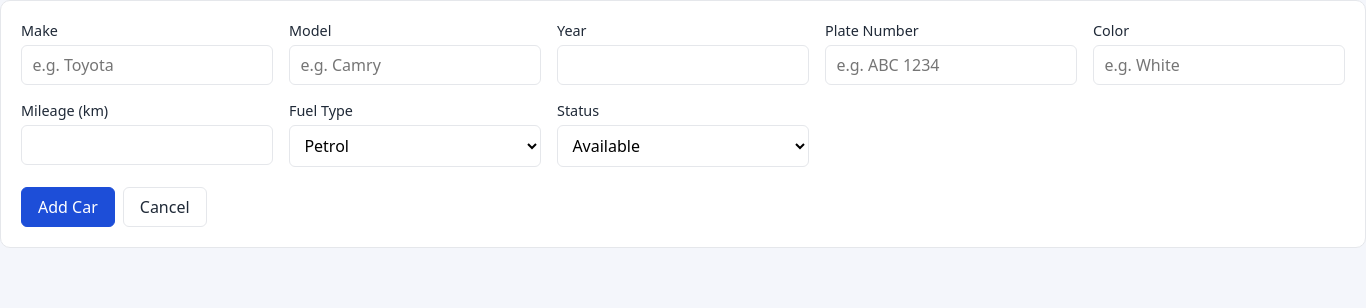
Test: CarForm › shows validation errors and does not submit an empty form
Click the button "Add Car".
click(68, 207)  # box [21,187,115,227]
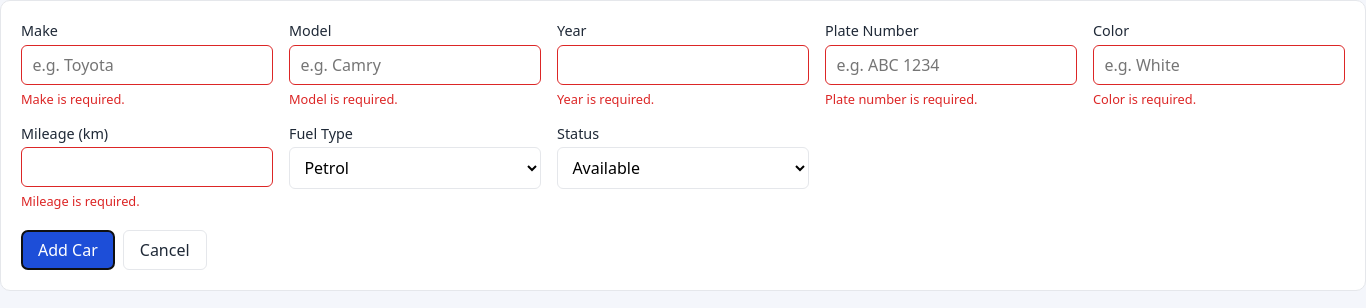
Expected: the text "Make is required." is shown, [21,90,125,108]
Expected: the text "Plate number is required." is shown, [825,90,978,108]
